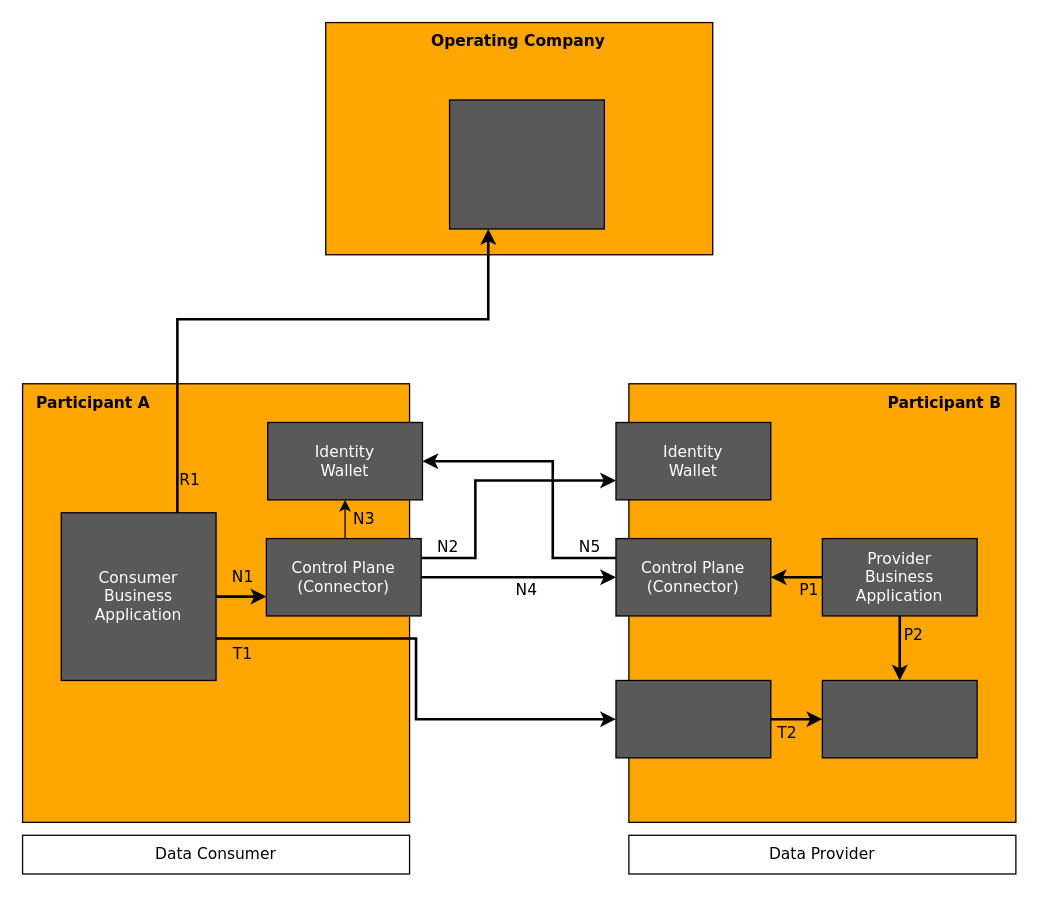
This 1038x897 diagram has some shape labels left out. The shapes that lost their labels are listed below. From the top down, each one's centre as x and y in pixels, then its label:
At [526,164]: "Central Participant Management BPDM/BDRS".
At [693,718]: "Data Plane (Connector)".
At [899,718]: "Provider Data Source".
